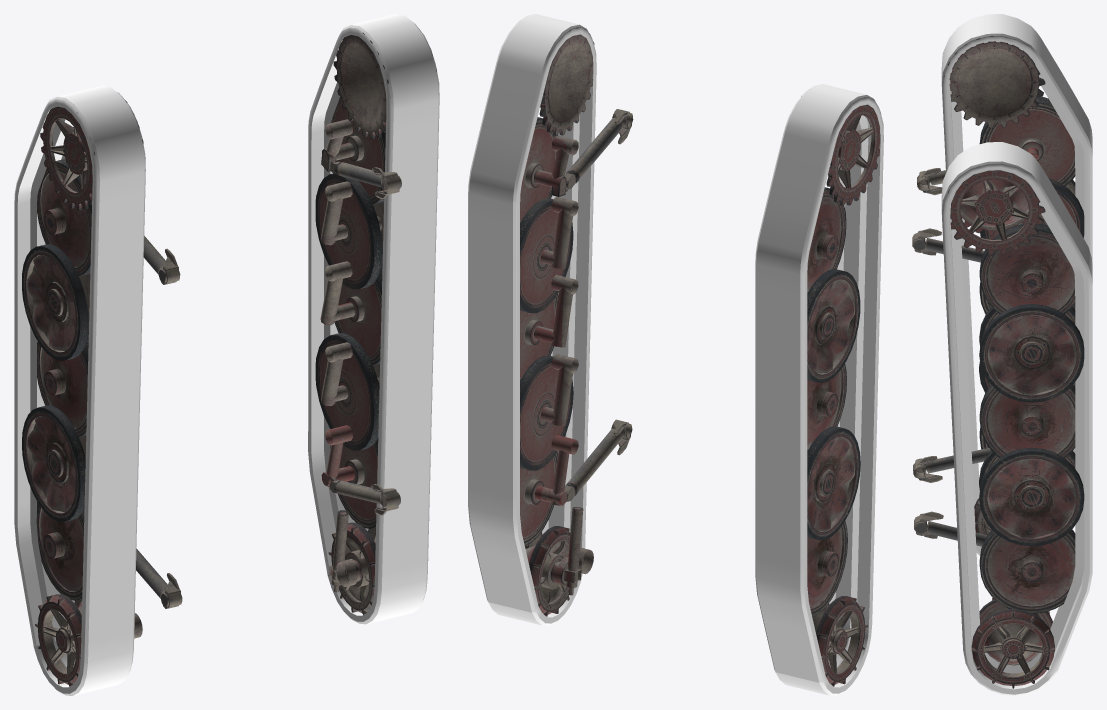
The model's file is Chassis.glb.
The picture shows the model from 3 angles, left to right: view 1: azimuth 30°, elevation 25°; view 2: azimuth 150°, elevation 25°; view 3: azimuth 270°, elevation 25°; orthographic projection. The views are drawn at different scales.
Parts seen in each view (by area): view 1: set_0_group_0, set_1_group_0, set_3_group_0, set_2_group_0; view 2: set_0_group_0, set_1_group_0, set_3_group_0, set_2_group_0; view 3: set_3_group_0, set_1_group_0, set_2_group_0, set_0_group_0.
Part boxes in pixels (x1,y1,x2,y2): set_0_group_0: [14, 85, 145, 695]; set_1_group_0: [308, 14, 439, 624]; set_3_group_0: [315, 28, 436, 614]; set_2_group_0: [22, 92, 182, 686]; set_0_group_0: [755, 84, 883, 695]; set_1_group_0: [468, 14, 596, 625]; set_3_group_0: [520, 27, 633, 616]; set_2_group_0: [801, 96, 880, 686]; set_3_group_0: [912, 166, 1084, 688]; set_1_group_0: [941, 142, 1092, 695]; set_2_group_0: [913, 36, 1084, 535]; set_0_group_0: [941, 14, 1092, 555].
Bounding box in the file's own units: 2.48 × 4.13 × 1.26.
Materials: 4 (2 with a texture image).
